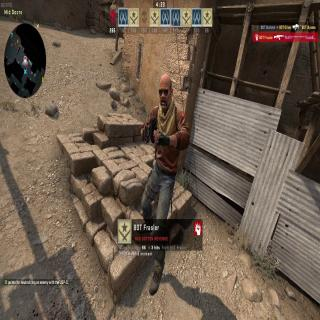CT-Body: (152, 74, 188, 220)
CT-Head: (159, 73, 173, 111)
